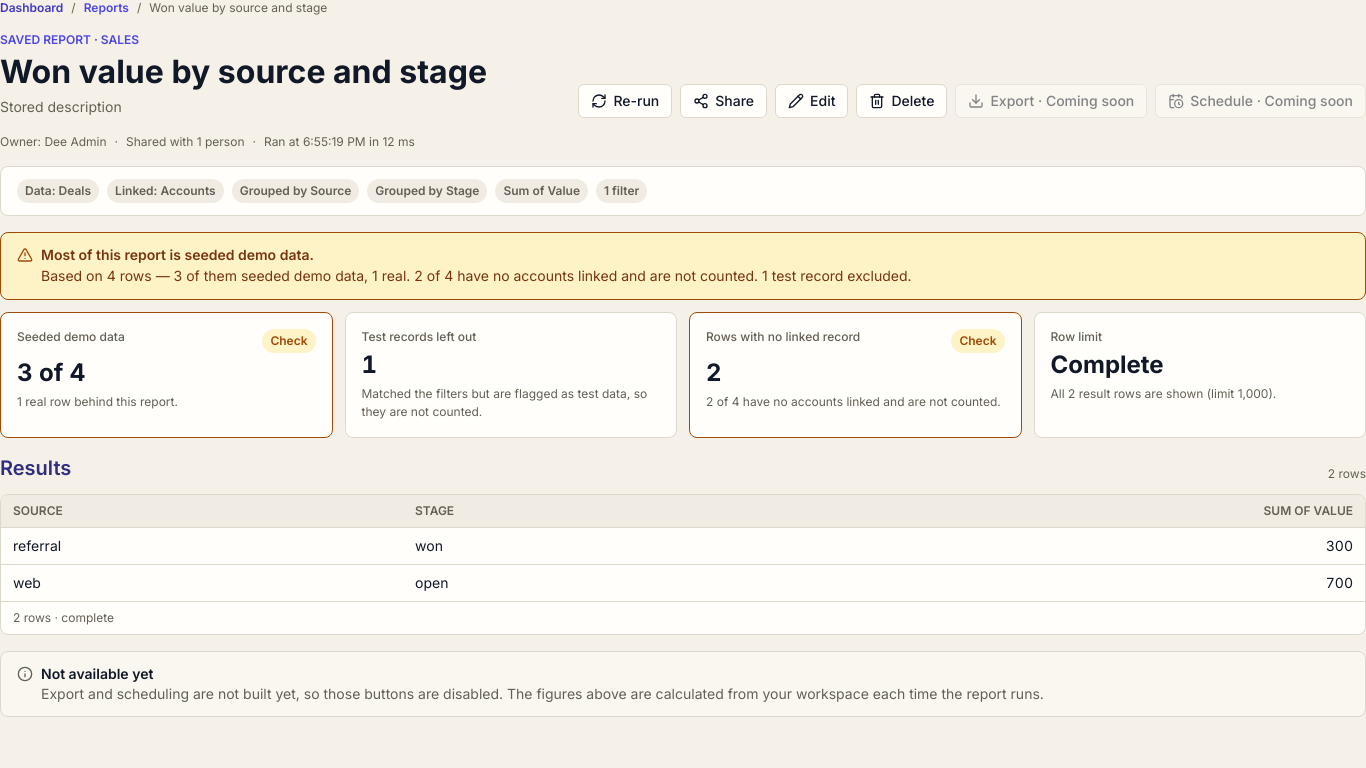
Test case: share dialog › offers only ACTIVE members who are not the owner, and the count follows the saved grants
The width and height of the screenshot is (1366, 768).
Expected: the text with test id "report-shared-with" reads "Shared with 1 person", [126,134,244,149]
Step 1. Click the button "Share" → (724, 101), box [680,84,767,118]
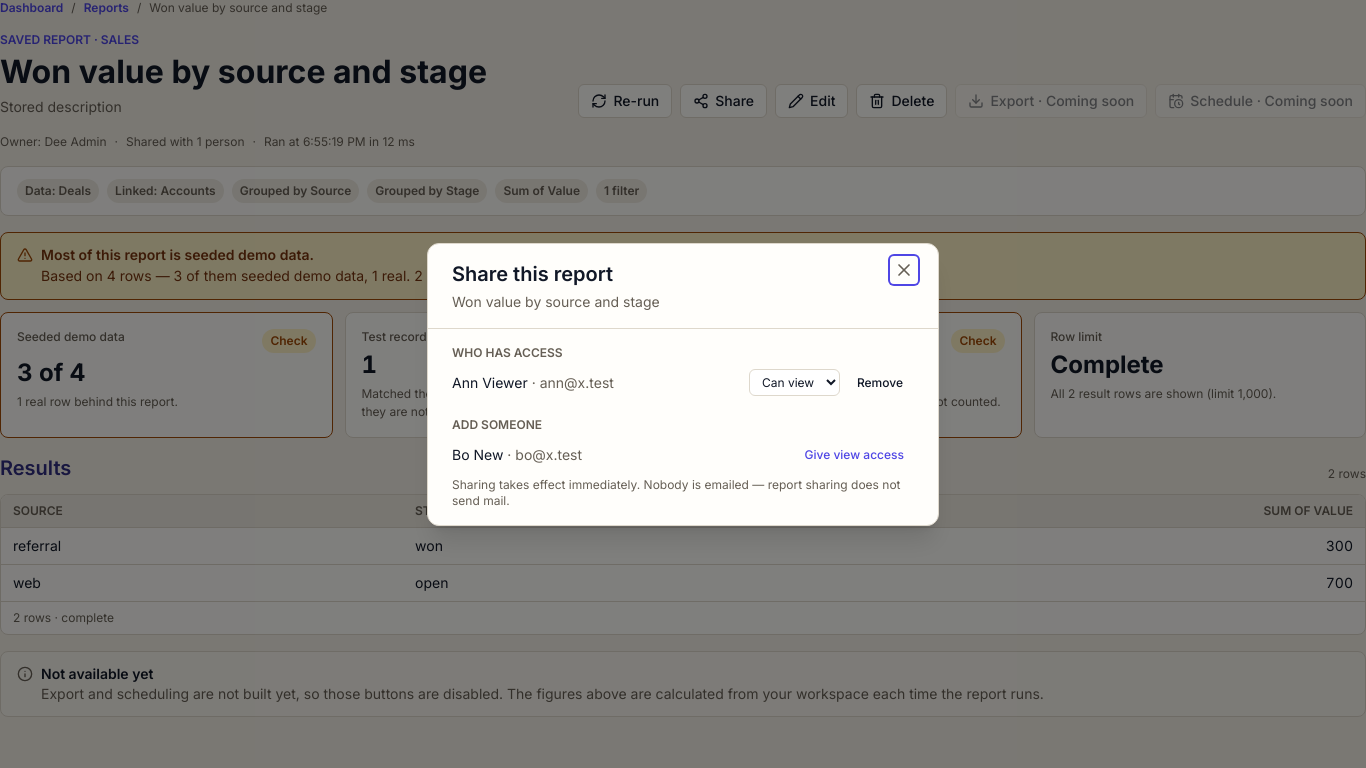
Now the text "Bo New" is shown, box [452,446,503,462]
Now the dialog shows "Nobody is emailed", box [452,476,900,508]
Step 2. Click the button "Give view access" → (854, 454), box [794,440,914,468]
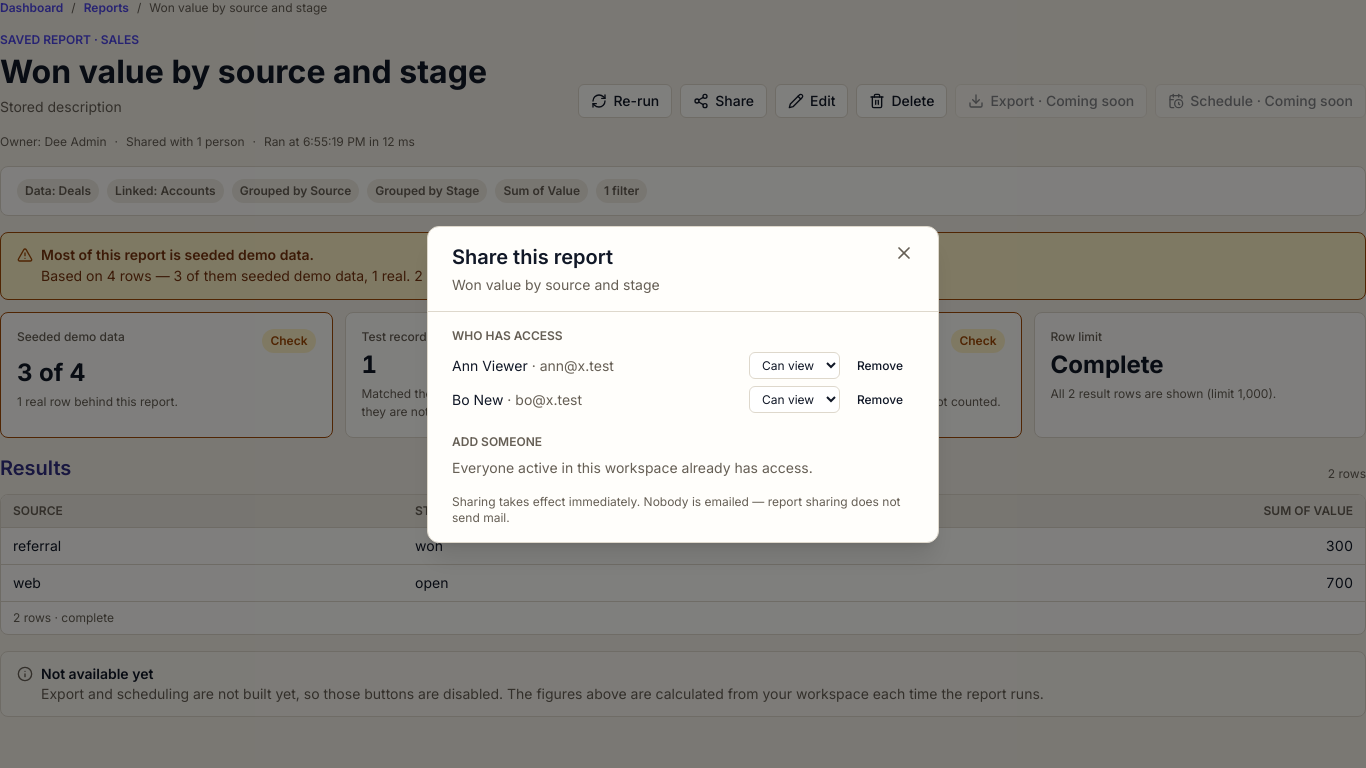
Step 3. Click the button named "close" → (904, 252), box [890,238,918,266]
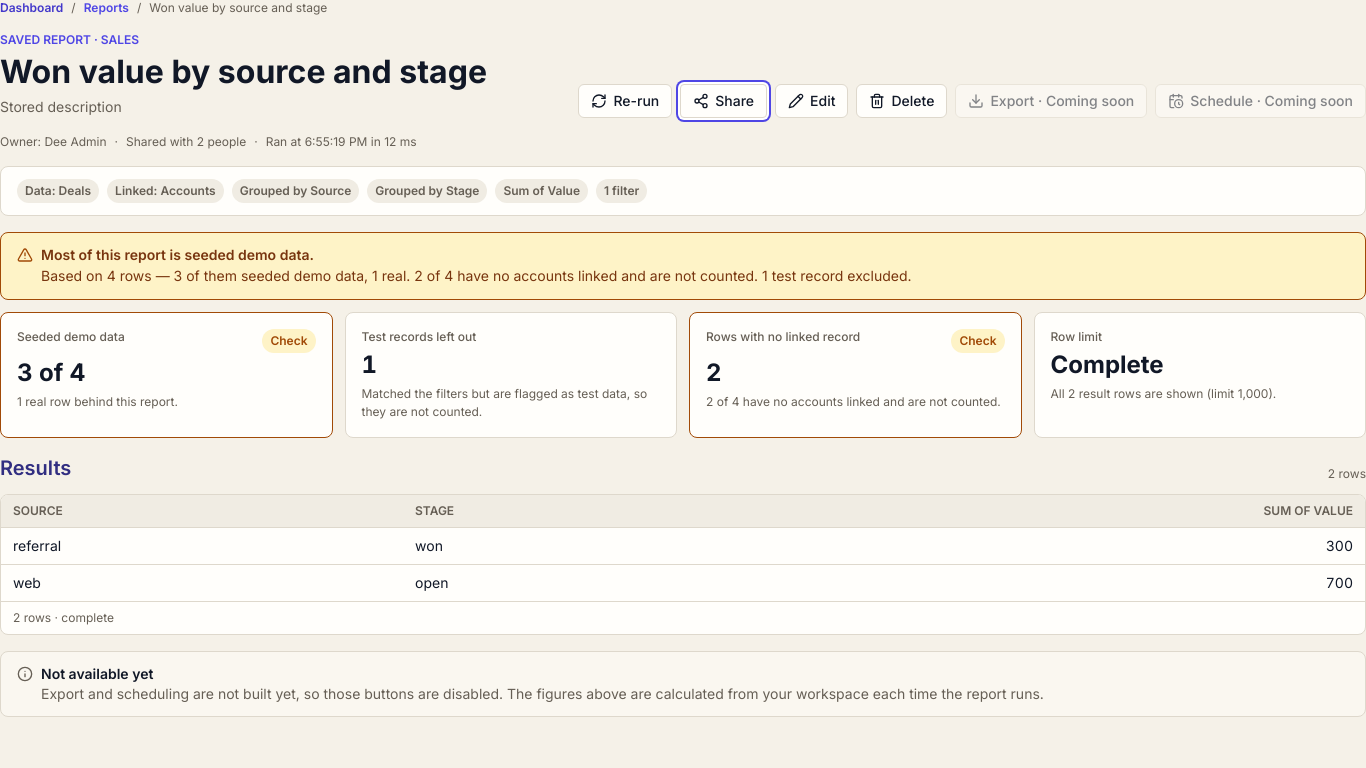
Now the text with test id "report-shared-with" reads "Shared with 2 people", box [126,134,246,149]
